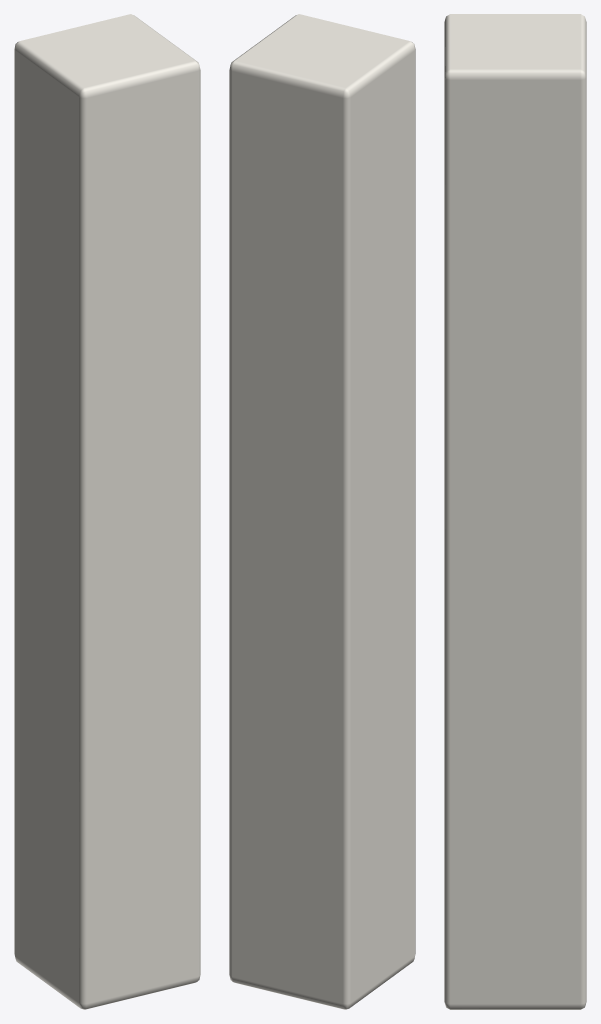
The model's file is wall-column.glb.
3 views of the same model, side by side, from view 1: azimuth 30°, elevation 25°; view 2: azimuth 150°, elevation 25°; view 3: azimuth 270°, elevation 25° (orthographic). The views are drawn at different scales.
Parts seen in each view (by area): view 1: part; view 2: part; view 3: part.
Part boxes in pixels (left/top/right/bottom): part: left=14, top=14, right=200, bottom=1009; part: left=229, top=14, right=415, bottom=1009; part: left=444, top=14, right=586, bottom=1009.
Size of the model in its own units: 0.7 by 5.1 by 0.7.
1 material, 1 textured.
